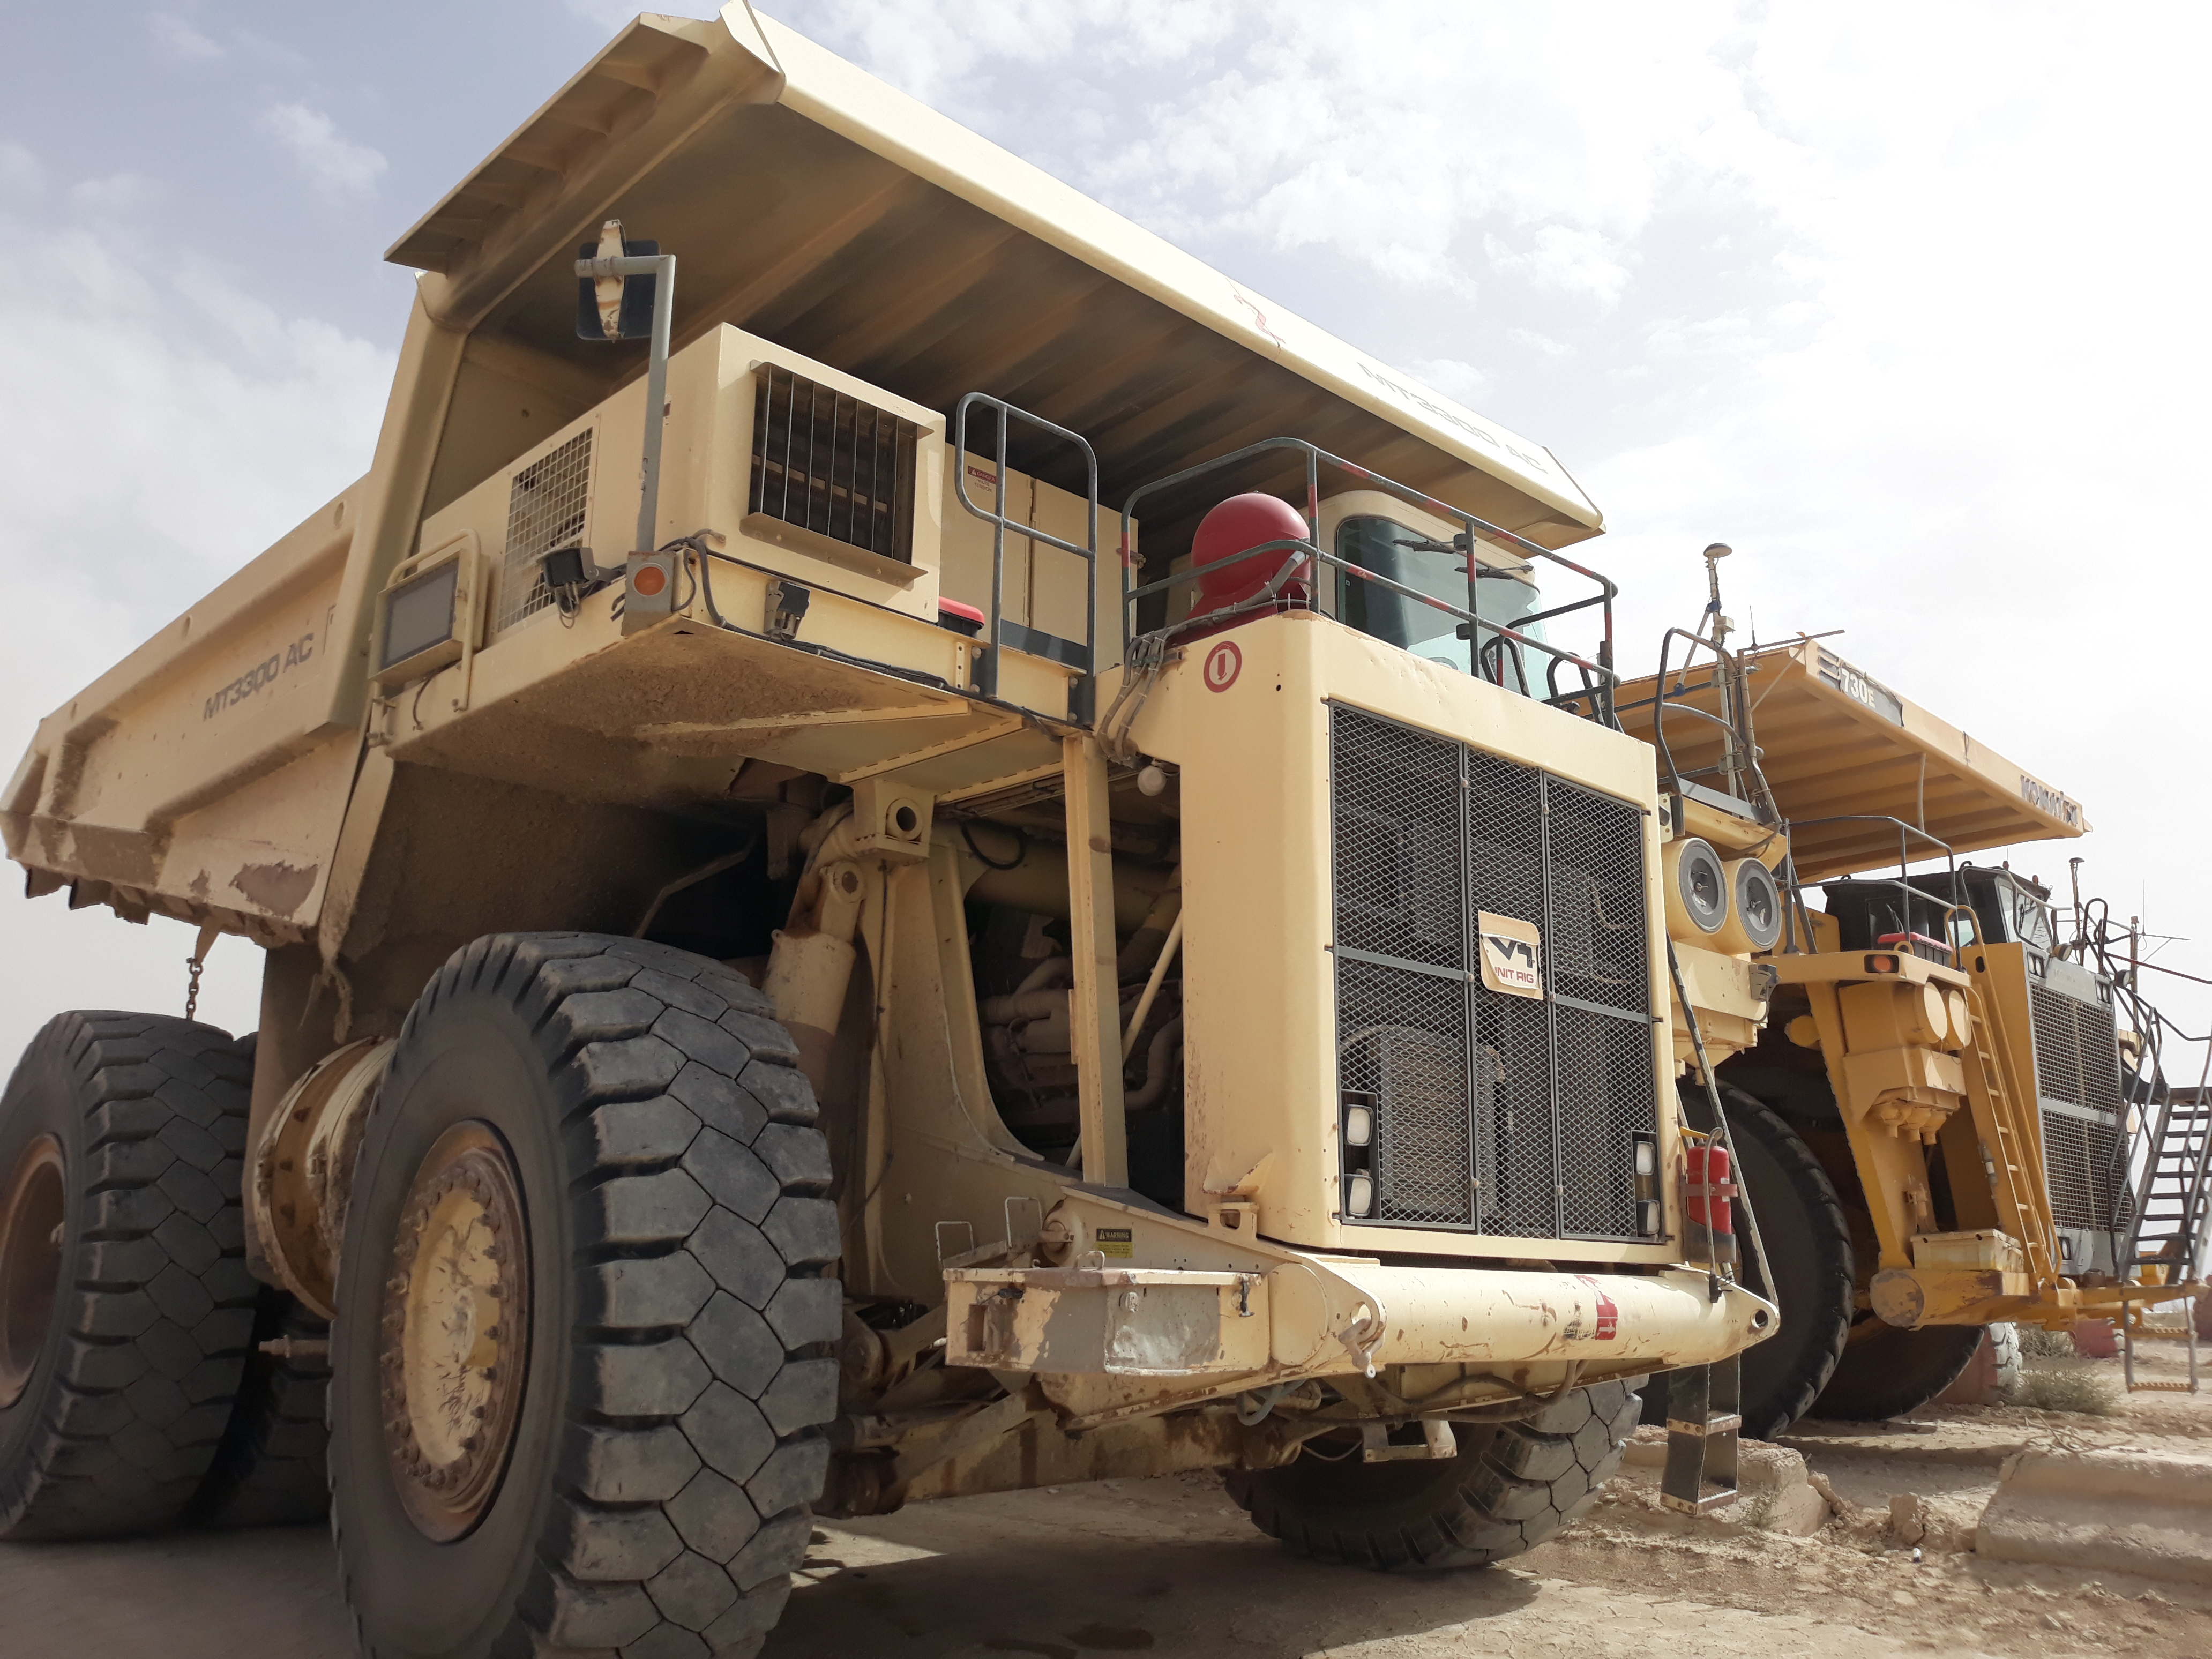camion: (9, 0, 1770, 1656), (1491, 579, 2212, 1476)
